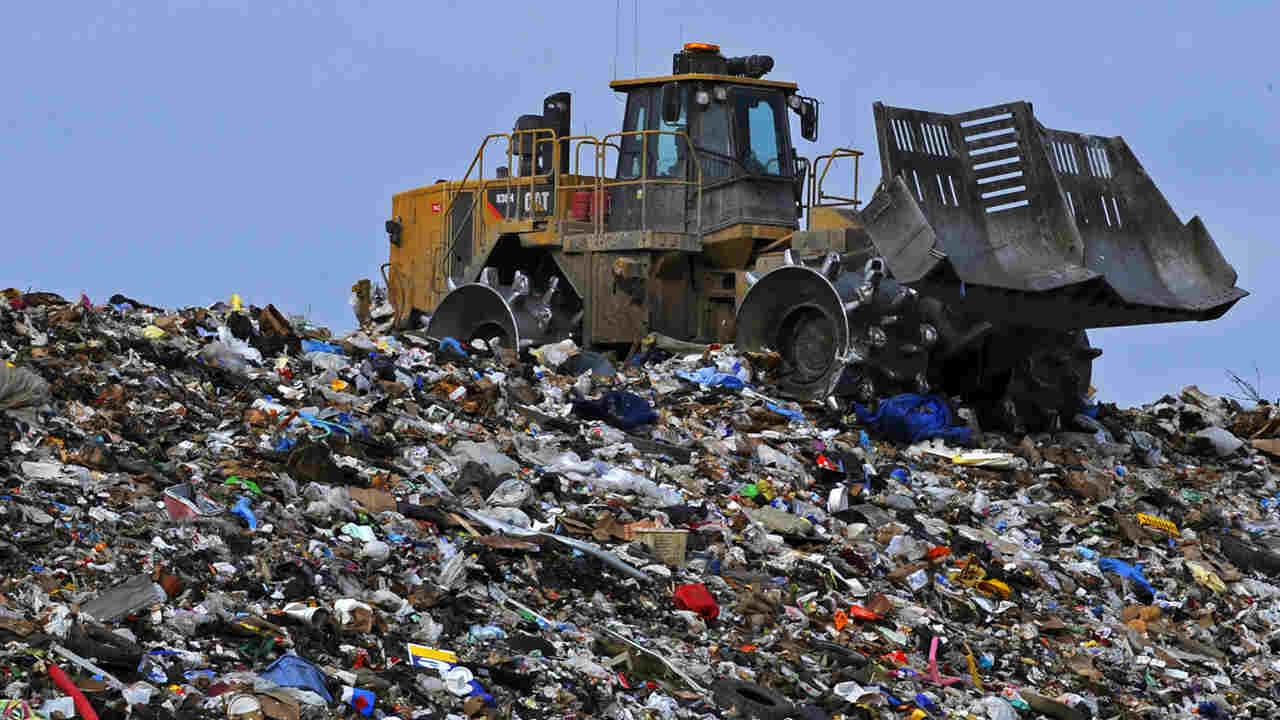garbage: (0, 287, 1280, 720)
